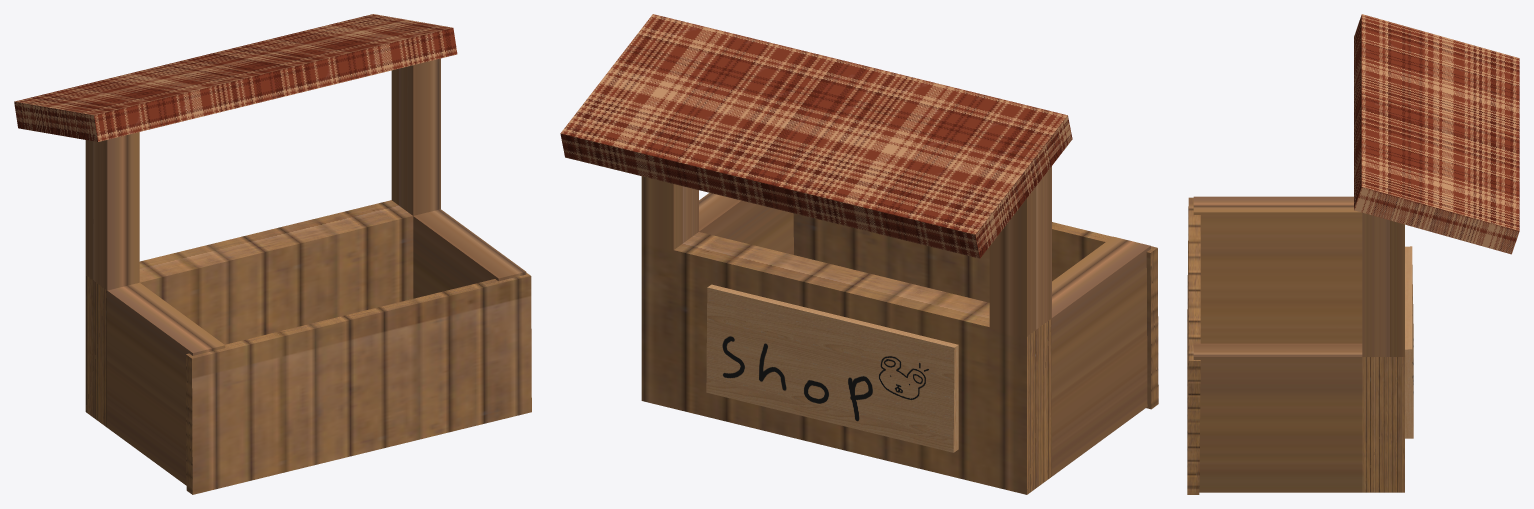
File: booth.fbx
The picture shows the model from 3 angles, left to right: view 1: azimuth 30°, elevation 25°; view 2: azimuth 150°, elevation 25°; view 3: azimuth 270°, elevation 25°; orthographic projection. The views are drawn at different scales.
Visible parts, largest first — view 1: pCube1, pCube3, pCube2; view 2: pCube1, pCube2, pCube4, pCube3; view 3: pCube1, pCube2, pCube3, pCube4.
Part boxes in pixels (x1,y1,x2,y2): pCube1: [85, 58, 526, 485]; pCube3: [186, 272, 531, 494]; pCube2: [14, 14, 457, 141]; pCube1: [641, 166, 1150, 494]; pCube2: [560, 14, 1072, 258]; pCube4: [706, 284, 958, 452]; pCube3: [793, 213, 1158, 409]; pCube1: [1193, 196, 1404, 492]; pCube2: [1354, 14, 1519, 254]; pCube3: [1187, 197, 1200, 494]; pCube4: [1405, 246, 1413, 438].
Size of the model in its own units: 4.28 by 3.61 by 3.48.
1 material, 1 textured.
